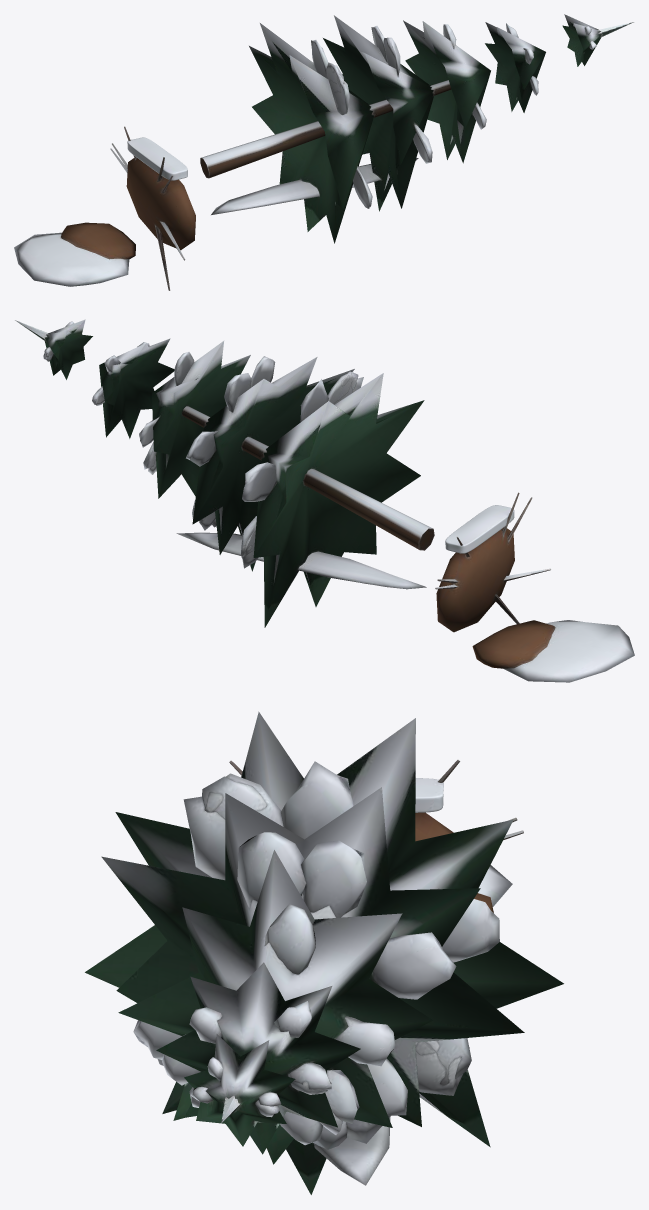
File: tree_fallen.glb
3 renders of one model, top to bottom at view 1: azimuth 30°, elevation 25°; view 2: azimuth 150°, elevation 25°; view 3: azimuth 270°, elevation 25°, orthographic. The views are drawn at different scales.
Visible parts, largest first — view 1: tree_fallen; view 2: tree_fallen; view 3: tree_fallen.
Part boxes in pixels (<box>): tree_fallen: <box>14,14,633,290</box>; tree_fallen: <box>15,319,634,682</box>; tree_fallen: <box>85,711,563,1194</box>.
Size of the model in its own units: 7.96 by 2.72 by 2.88.
Materials: 1 (1 with a texture image).
